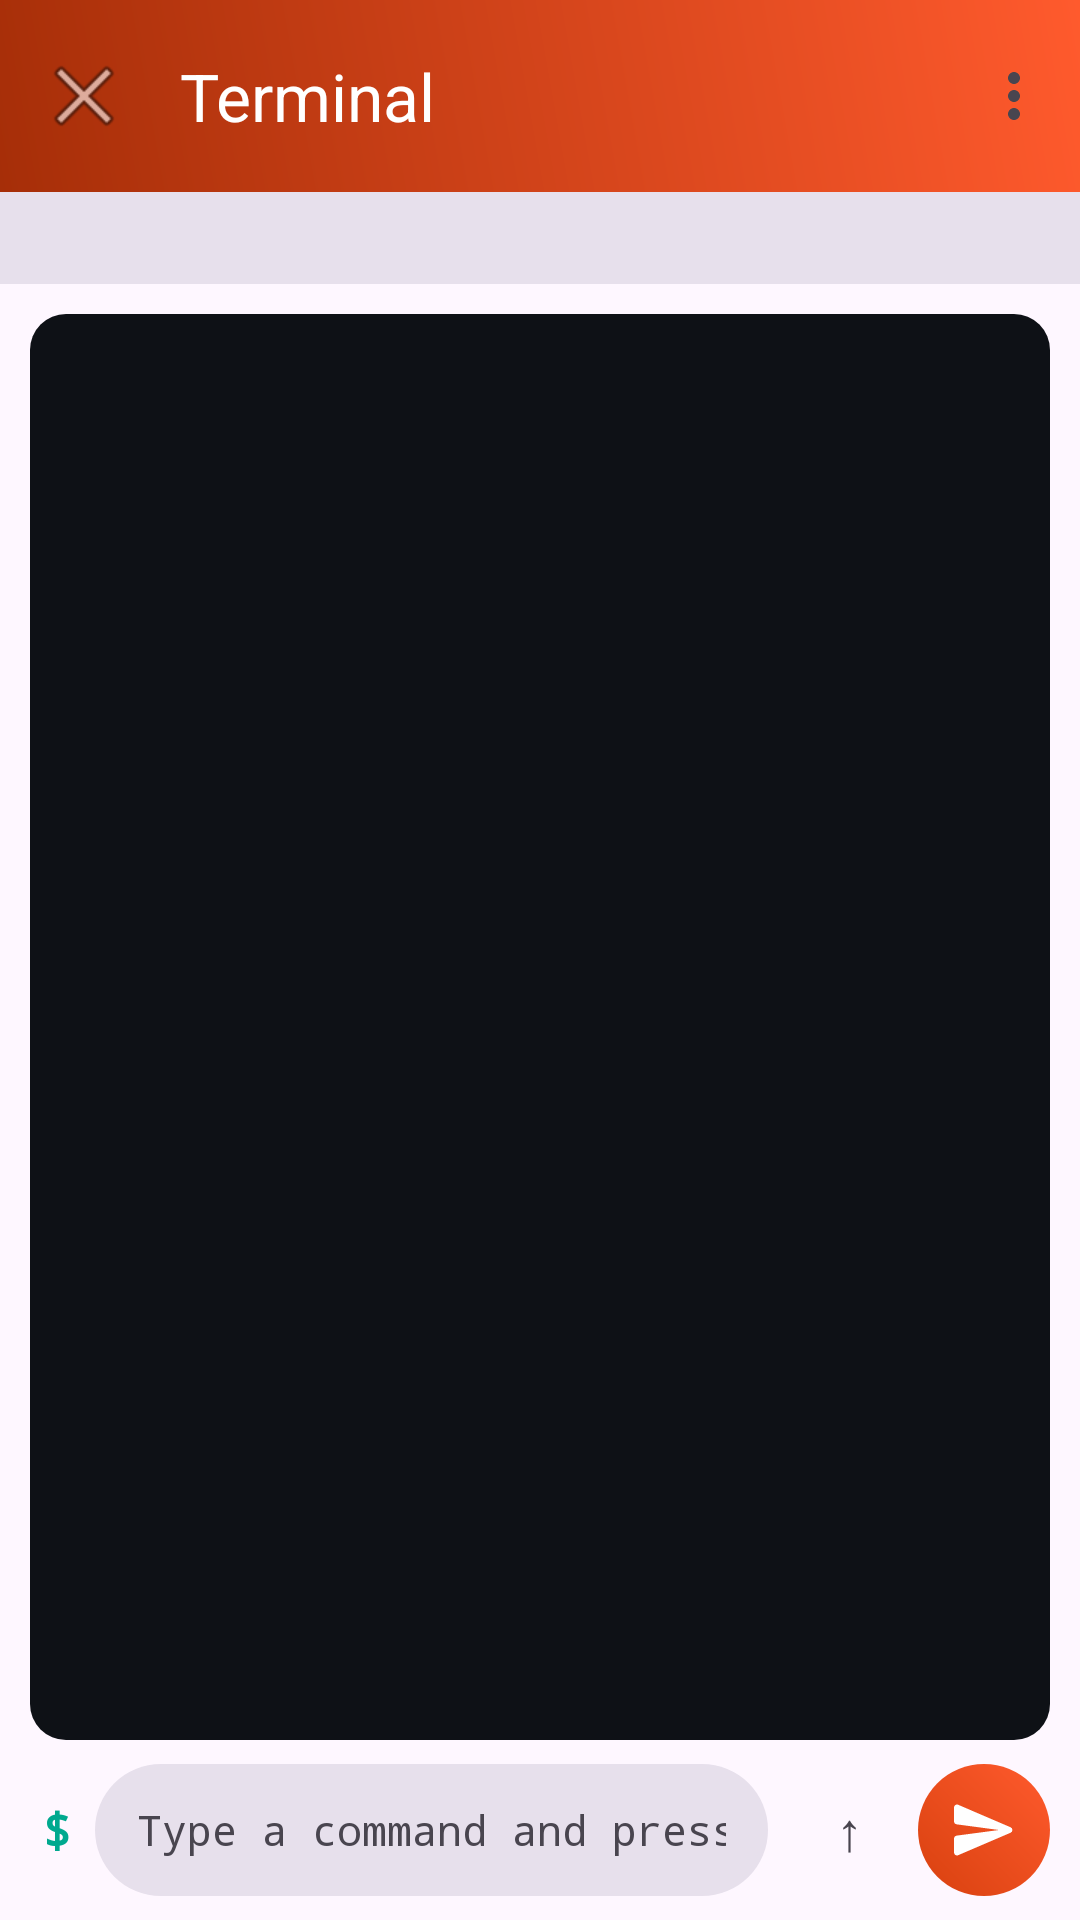

Screen size 1080 x 1920. Icon name, then its center in pixels as point (x, y):
Run: point (984, 1830)
